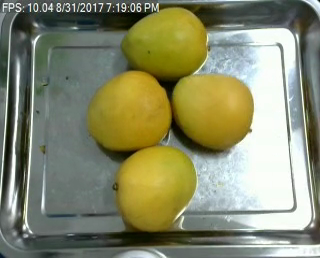Mango: (113, 144, 196, 229), (88, 70, 171, 151), (123, 8, 208, 78), (170, 75, 252, 147)
